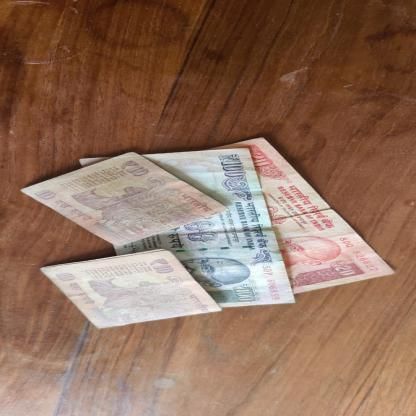Old100Front: (78, 148, 298, 309)
Old10Back: (18, 151, 230, 246), (40, 248, 224, 330)
Old20Front: (203, 137, 397, 295)
